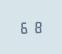eight: (31, 19, 42, 33)
six: (19, 20, 30, 34)
